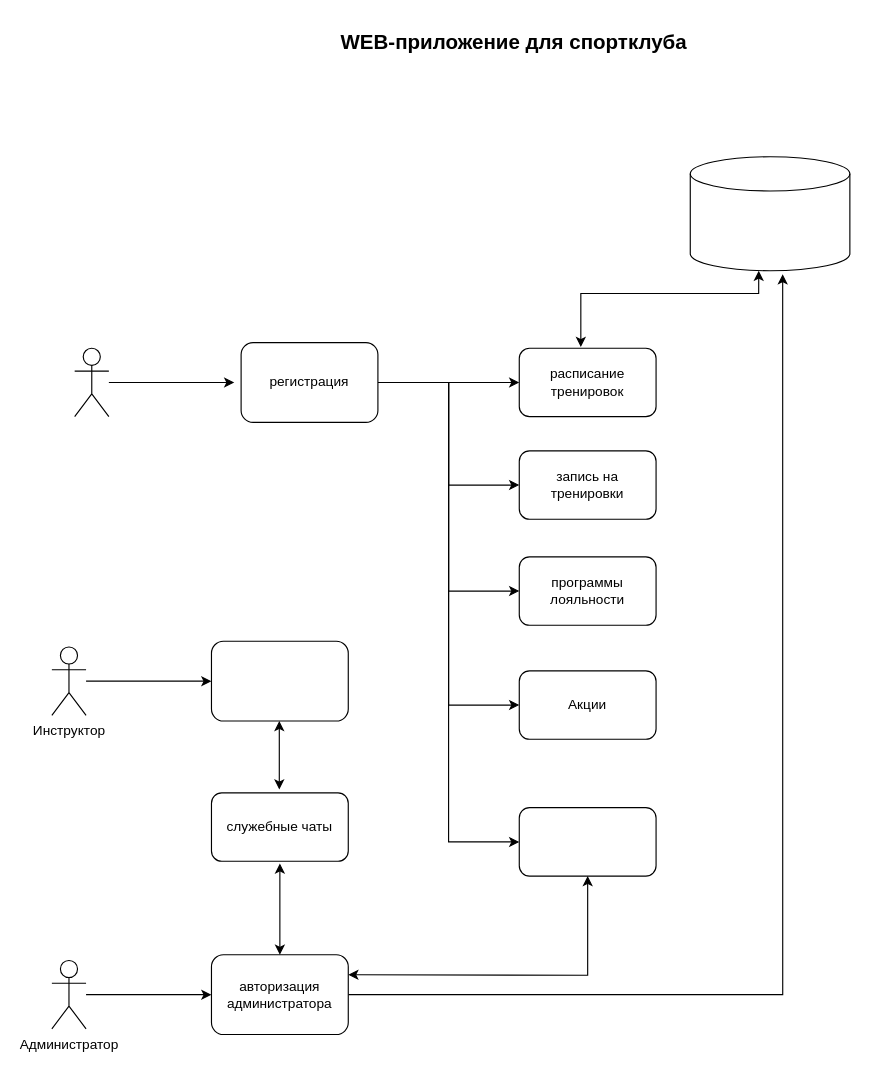
Some shapes in this 870 by 1072 pixel diagram are drawn without their labels. The centre of each missing label's shape, as x and y in pixels:
"Client" goes at pixel 91 382.
"авторизация инструктора" goes at pixel 279 680.
"БД" goes at pixel 769 213.
"обратная связь" goes at pixel 587 841.
